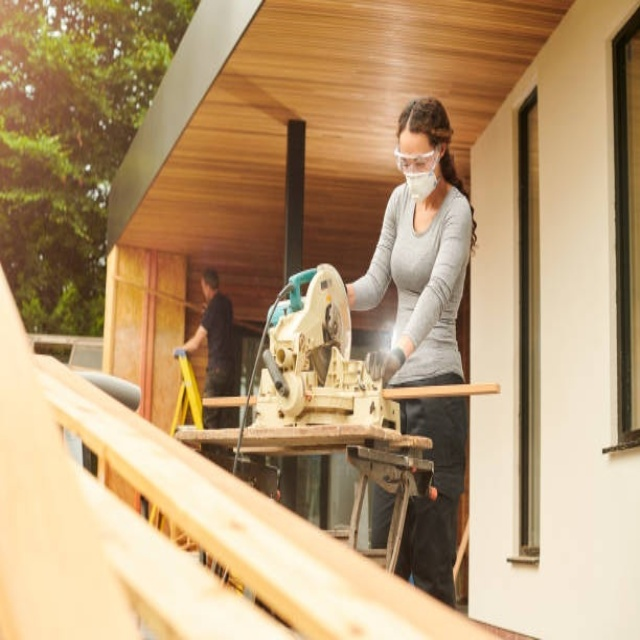Gafas: (395, 145, 442, 174)
Guantes: (367, 346, 406, 385)
Mascara: (400, 154, 441, 202)
